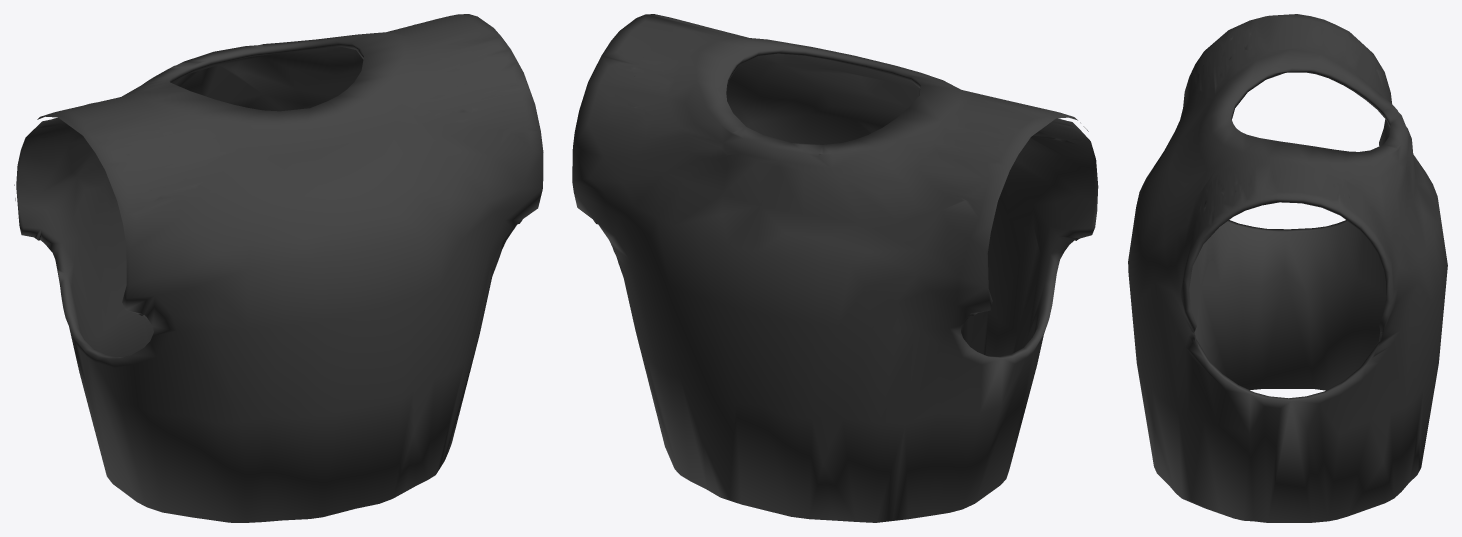
The model's file is gear-vest.glb.
The picture shows the model from 3 angles, left to right: view 1: azimuth 30°, elevation 25°; view 2: azimuth 150°, elevation 25°; view 3: azimuth 270°, elevation 25°; orthographic projection. The views are drawn at different scales.
Parts seen in each view (by area): view 1: geometry_0; view 2: geometry_0; view 3: geometry_0.
Boxes of the visible parts, left/top/right/bottom form: geometry_0: left=14, top=14, right=543, bottom=522; geometry_0: left=572, top=14, right=1098, bottom=522; geometry_0: left=1128, top=14, right=1447, bottom=522.
Size of the model in its own units: 0.4899 by 0.4335 by 0.3583.
1 material, 1 textured.
